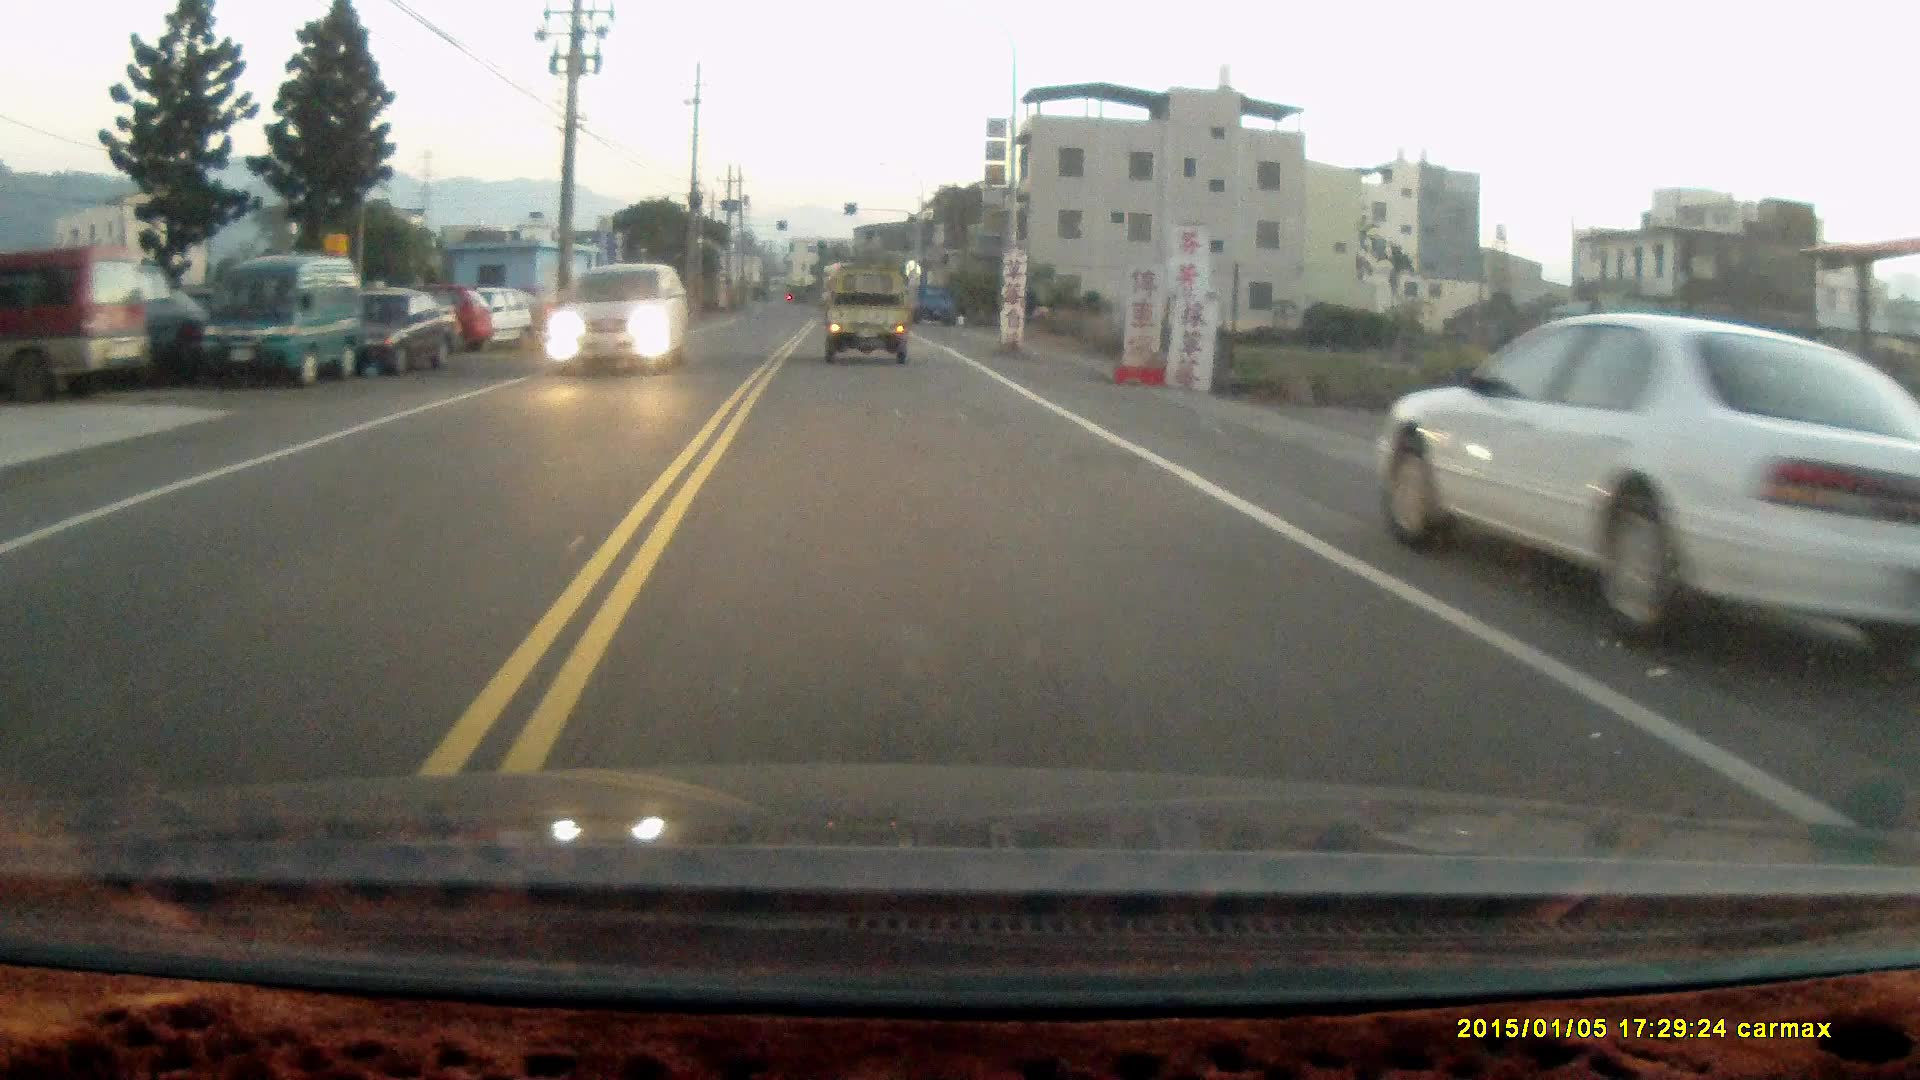vehicle: (1379, 311, 1920, 644), (1, 247, 152, 394), (202, 256, 367, 386), (542, 262, 688, 381), (823, 278, 915, 373), (365, 291, 465, 378), (459, 293, 530, 360)
